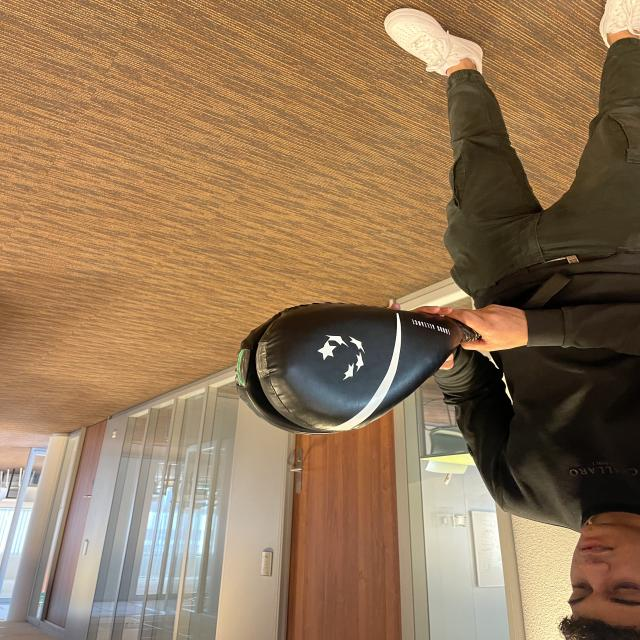paddle: (238, 304, 453, 436)
trigger: (233, 346, 250, 392)
